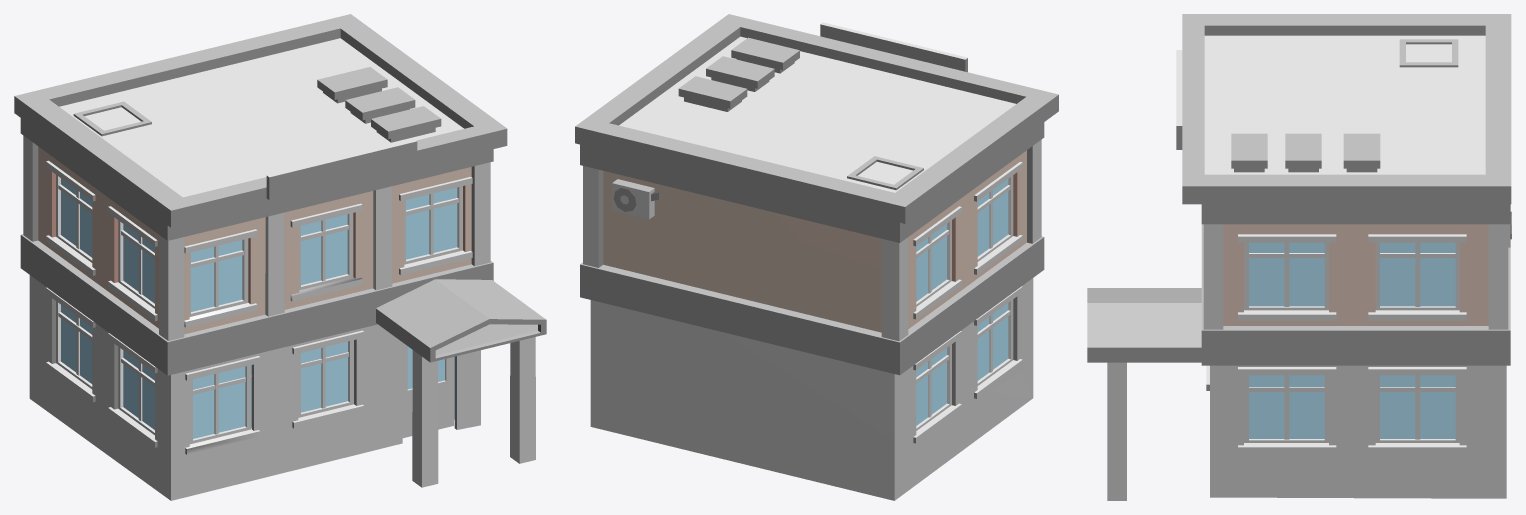
File: bank_001.glb
3 renders of one model, left to right at view 1: azimuth 30°, elevation 25°; view 2: azimuth 150°, elevation 25°; view 3: azimuth 270°, elevation 25°, orthographic. The views are drawn at different scales.
Visible parts, largest first — view 1: bank_001; view 2: bank_001; view 3: bank_001.
Boxes of the visible parts, x1,y1,x2,y2 form: bank_001: (14, 14, 546, 500); bank_001: (575, 14, 1058, 500); bank_001: (1087, 14, 1511, 500).
Bounding box in the file's own units: 7.19 × 6.46 × 7.47.
Materials: 1 (1 with a texture image).
